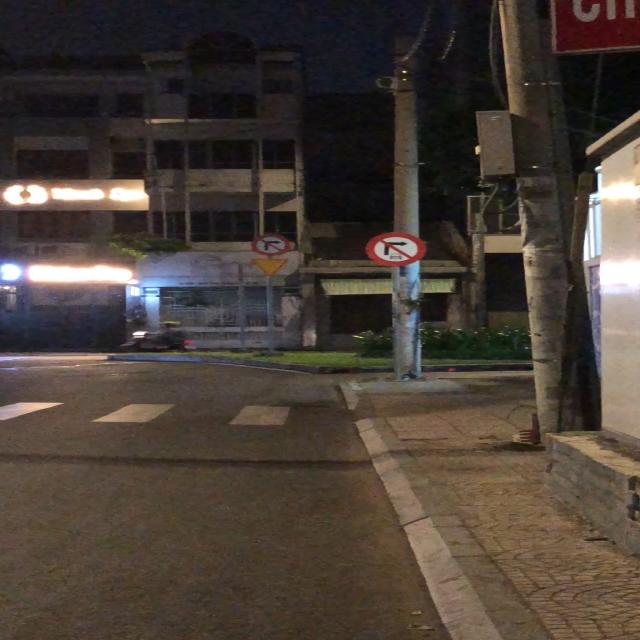Bien bao cam re phai: (250, 232, 293, 256)
Bien bao cam xe o to re phai: (365, 232, 425, 268)
Bien bao giao nhau voi duong uu tien: (250, 255, 291, 278)
